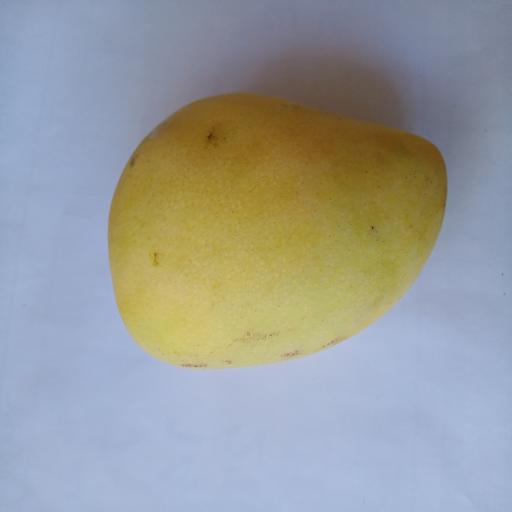mango-ripe: (82, 61, 470, 404)
